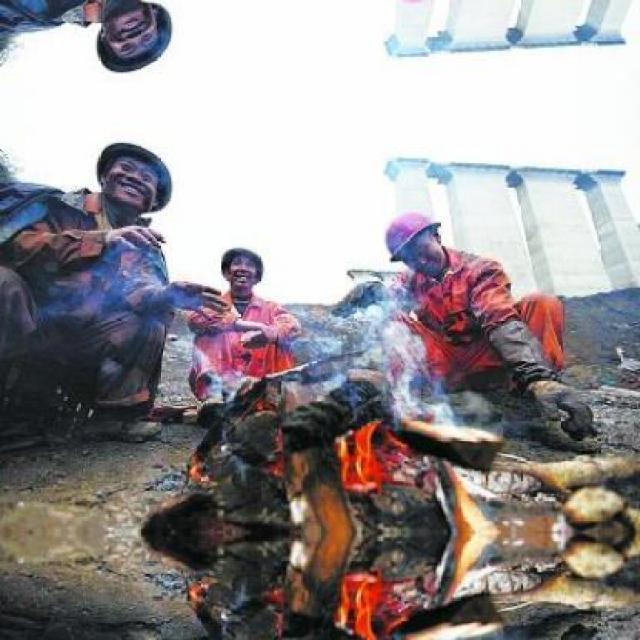reflective_jacket: (401, 246, 524, 375), (178, 289, 301, 404)
safety_helmet: (372, 204, 447, 261), (552, 480, 630, 531)
